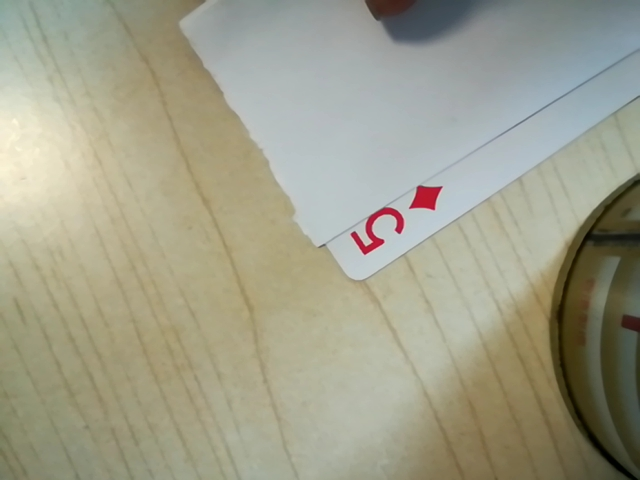fk 5: (340, 181, 448, 262)
